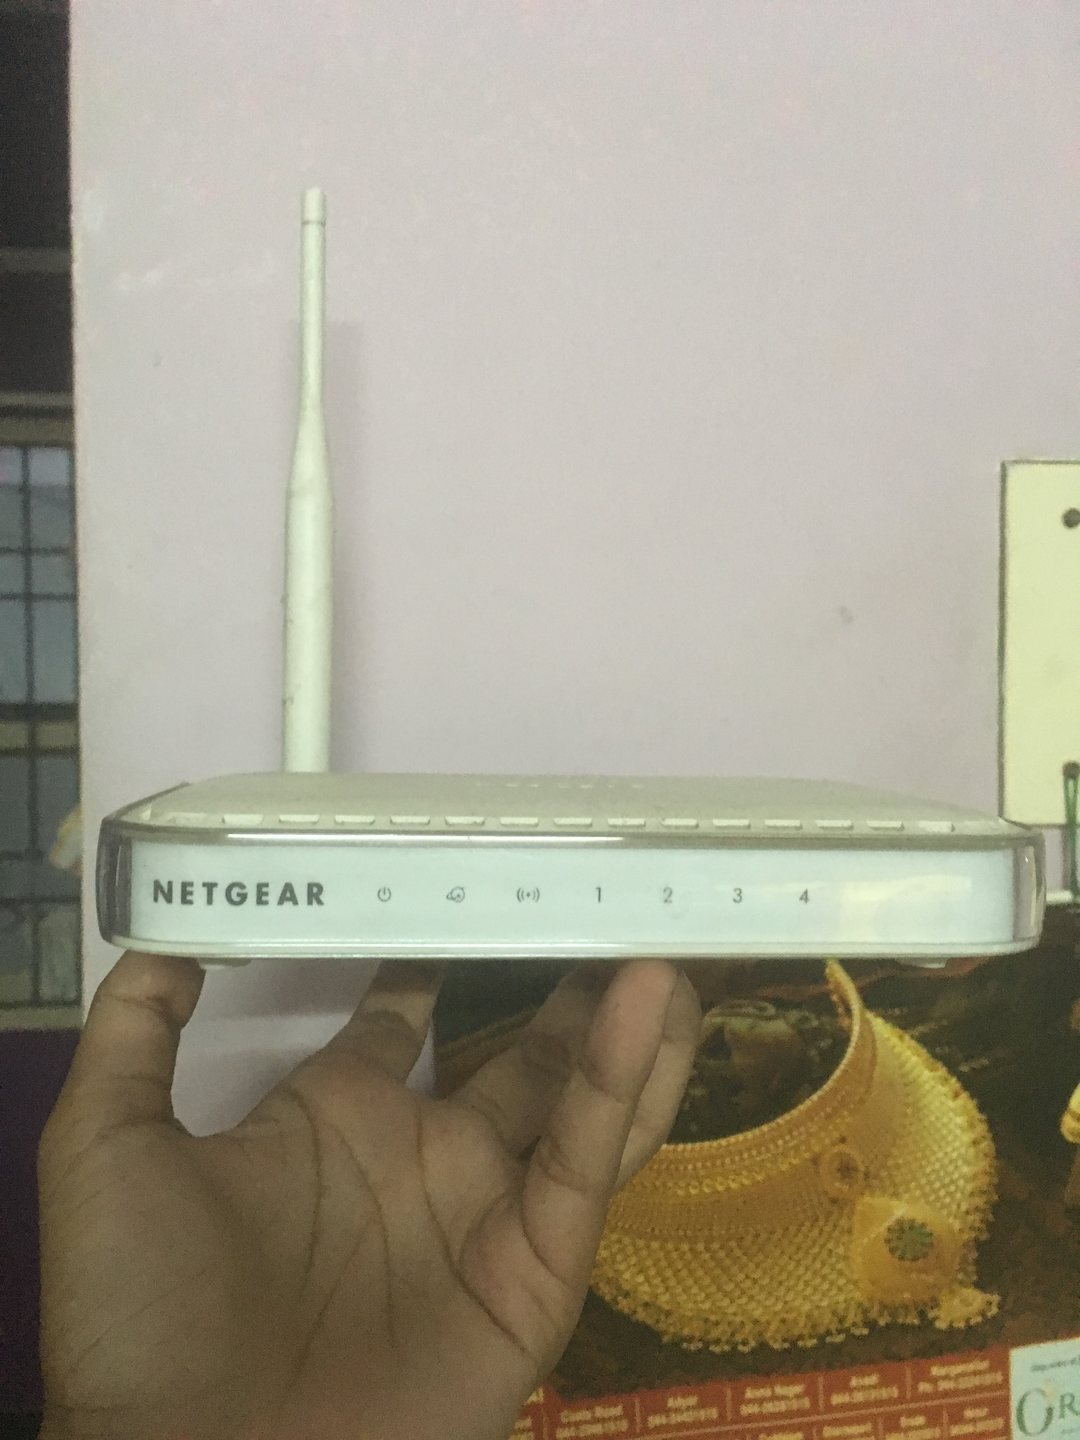NETGEAR: (144, 872, 336, 915)
modem: (92, 814, 1043, 962)
